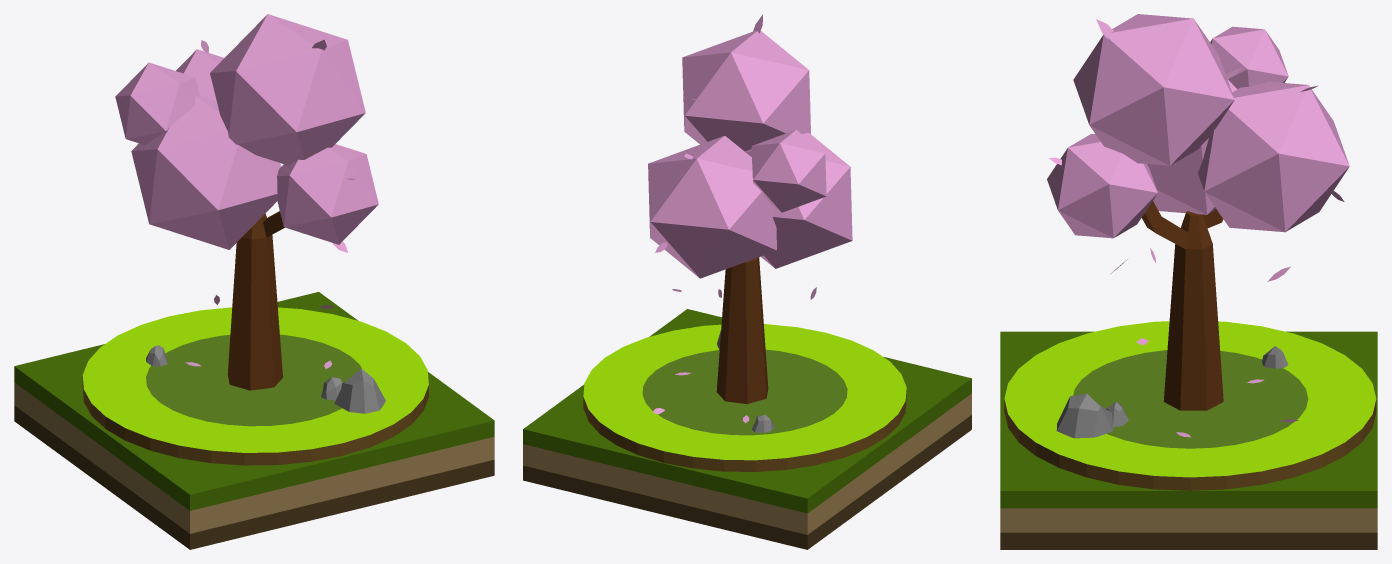
The model's file is Tree3Prefab.fbx.
3 views of the same model, side by side, from view 1: azimuth 30°, elevation 25°; view 2: azimuth 150°, elevation 25°; view 3: azimuth 270°, elevation 25° (orthographic). The views are drawn at different scales.
Visible parts, largest first — view 1: sakura tree, tree ground.006, Icosphere.040, Icosphere.042, Circle.029, Icosphere.039, Icosphere.043, Plane.052, Icosphere.041; view 2: sakura tree, tree ground.006, Icosphere.041, Icosphere.040, Circle.029, Icosphere.042, Icosphere.043; view 3: sakura tree, tree ground.006, Icosphere.040, Icosphere.041, Circle.029, Icosphere.039, Icosphere.043, Icosphere.042, Plane.052.
Part boxes in pixels (x1,y1,x2,y2): sakura tree: (82, 307, 428, 465); tree ground.006: (14, 292, 494, 549); Icosphere.040: (210, 14, 365, 165); Icosphere.042: (131, 95, 281, 249); Circle.029: (227, 211, 284, 390); Icosphere.039: (276, 144, 378, 244); Icosphere.043: (115, 62, 199, 144); Plane.052: (334, 368, 385, 413); Icosphere.041: (176, 49, 223, 100); sakura tree: (583, 324, 906, 471); tree ground.006: (523, 309, 971, 549); Icosphere.041: (648, 136, 776, 278); Icosphere.040: (682, 31, 810, 151); Circle.029: (716, 257, 768, 404); Icosphere.042: (745, 133, 852, 268); Icosphere.043: (751, 130, 826, 212); sakura tree: (1004, 321, 1376, 490); tree ground.006: (1000, 331, 1377, 549); Icosphere.040: (1073, 14, 1234, 165); Icosphere.041: (1198, 81, 1349, 232); Circle.029: (1141, 201, 1223, 410); Icosphere.039: (1047, 134, 1157, 238); Icosphere.043: (1210, 26, 1288, 89); Icosphere.042: (1147, 79, 1237, 214); Plane.052: (1056, 393, 1113, 438).
Bounding box in the file's own units: 194 × 265 × 194.
